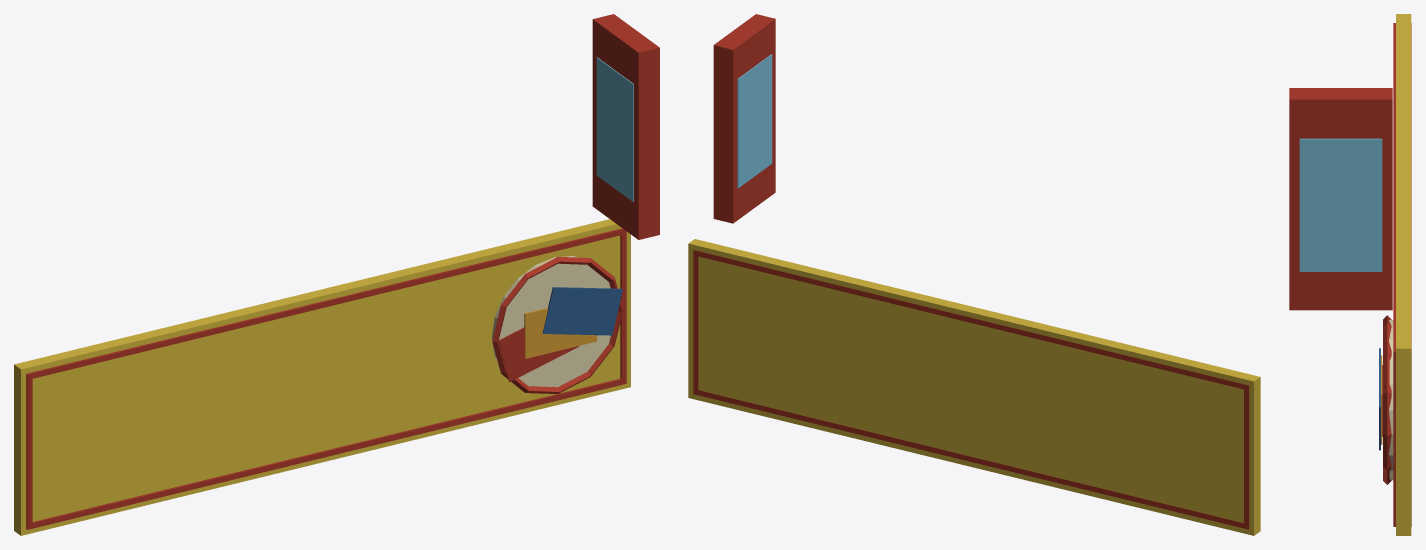
File: bang_dien_thoai_kim_ngan_48.glb
3 views of the same model, side by side, from view 1: azimuth 30°, elevation 25°; view 2: azimuth 150°, elevation 25°; view 3: azimuth 270°, elevation 25° (orthographic). The views are drawn at different scales.
Parts seen in each view (by area): view 1: bang_dien_thoai_kim_ngan_48; view 2: bang_dien_thoai_kim_ngan_48; view 3: bang_dien_thoai_kim_ngan_48.
Boxes of the visible parts, left/top/right/bottom form: bang_dien_thoai_kim_ngan_48: left=14, top=14, right=659, bottom=535; bang_dien_thoai_kim_ngan_48: left=688, top=14, right=1260, bottom=535; bang_dien_thoai_kim_ngan_48: left=1289, top=14, right=1411, bottom=535.
Bounding box in the file's own units: 4.6 × 2.73 × 0.712.
